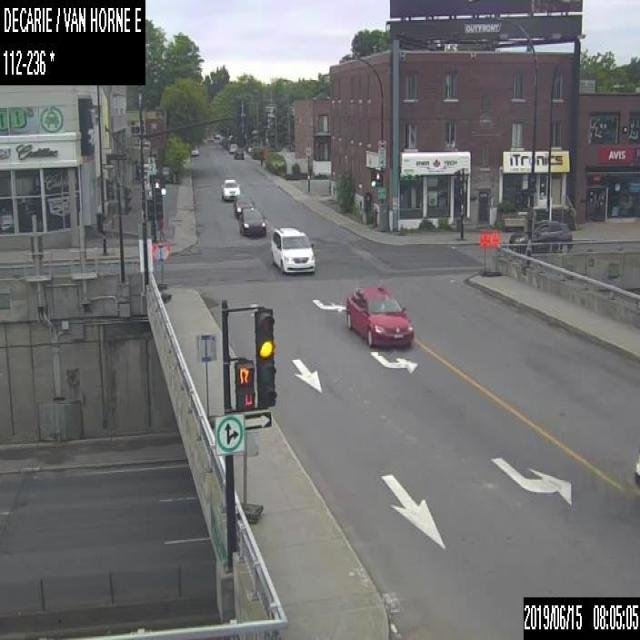construction: (234, 430, 262, 522), (194, 332, 216, 427), (152, 240, 170, 302), (478, 229, 489, 276), (489, 230, 500, 276)
vehicle: (344, 284, 414, 347), (506, 217, 573, 252), (269, 225, 316, 271), (239, 208, 266, 233), (233, 193, 254, 218), (220, 177, 240, 200), (631, 446, 639, 491), (233, 148, 243, 158), (228, 142, 237, 152), (189, 146, 198, 156)
